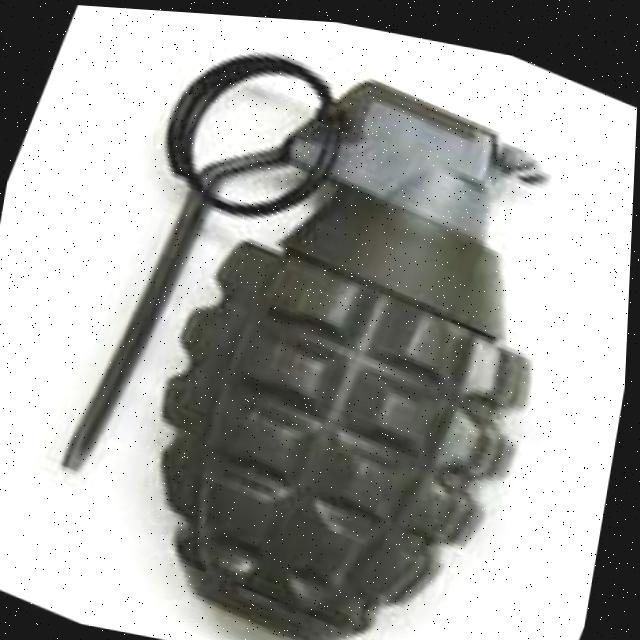grenade: (0, 1, 640, 640)
